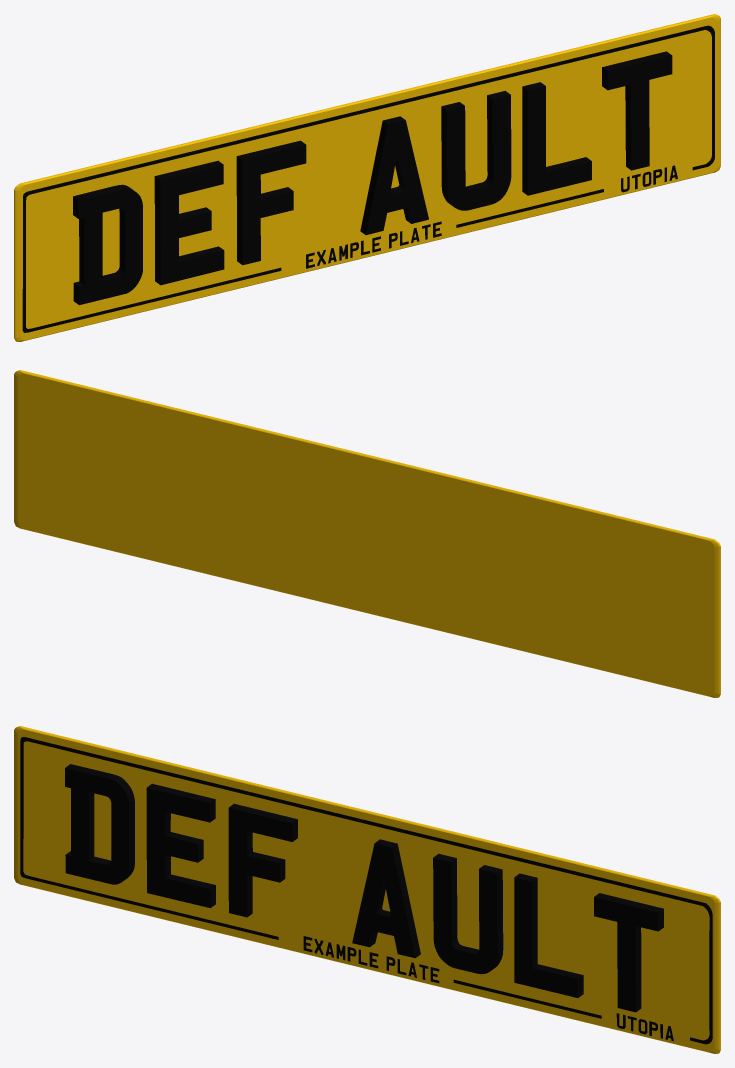
File: PLATE_EXAMPLE.gltf
3 renders of one model, top to bottom at view 1: azimuth 30°, elevation 25°; view 2: azimuth 150°, elevation 25°; view 3: azimuth 330°, elevation 25°, orthographic.
Visible parts, largest first — view 1: Plane.002, Text, Circle, Text.001; view 2: Plane.002; view 3: Plane.002, Text, Circle, Text.001.
Part boxes in pixels (<box>): Plane.002: <box>14,14,720,341</box>; Text: <box>73,51,672,305</box>; Circle: <box>22,25,714,332</box>; Text.001: <box>306,221,441,268</box>; Plane.002: <box>14,370,720,697</box>; Plane.002: <box>14,726,720,1053</box>; Text: <box>65,764,663,1012</box>; Circle: <box>20,737,712,1044</box>; Text.001: <box>303,936,439,983</box>.
Size of the model in its own units: 10.48 by 2.24 by 0.2059.
